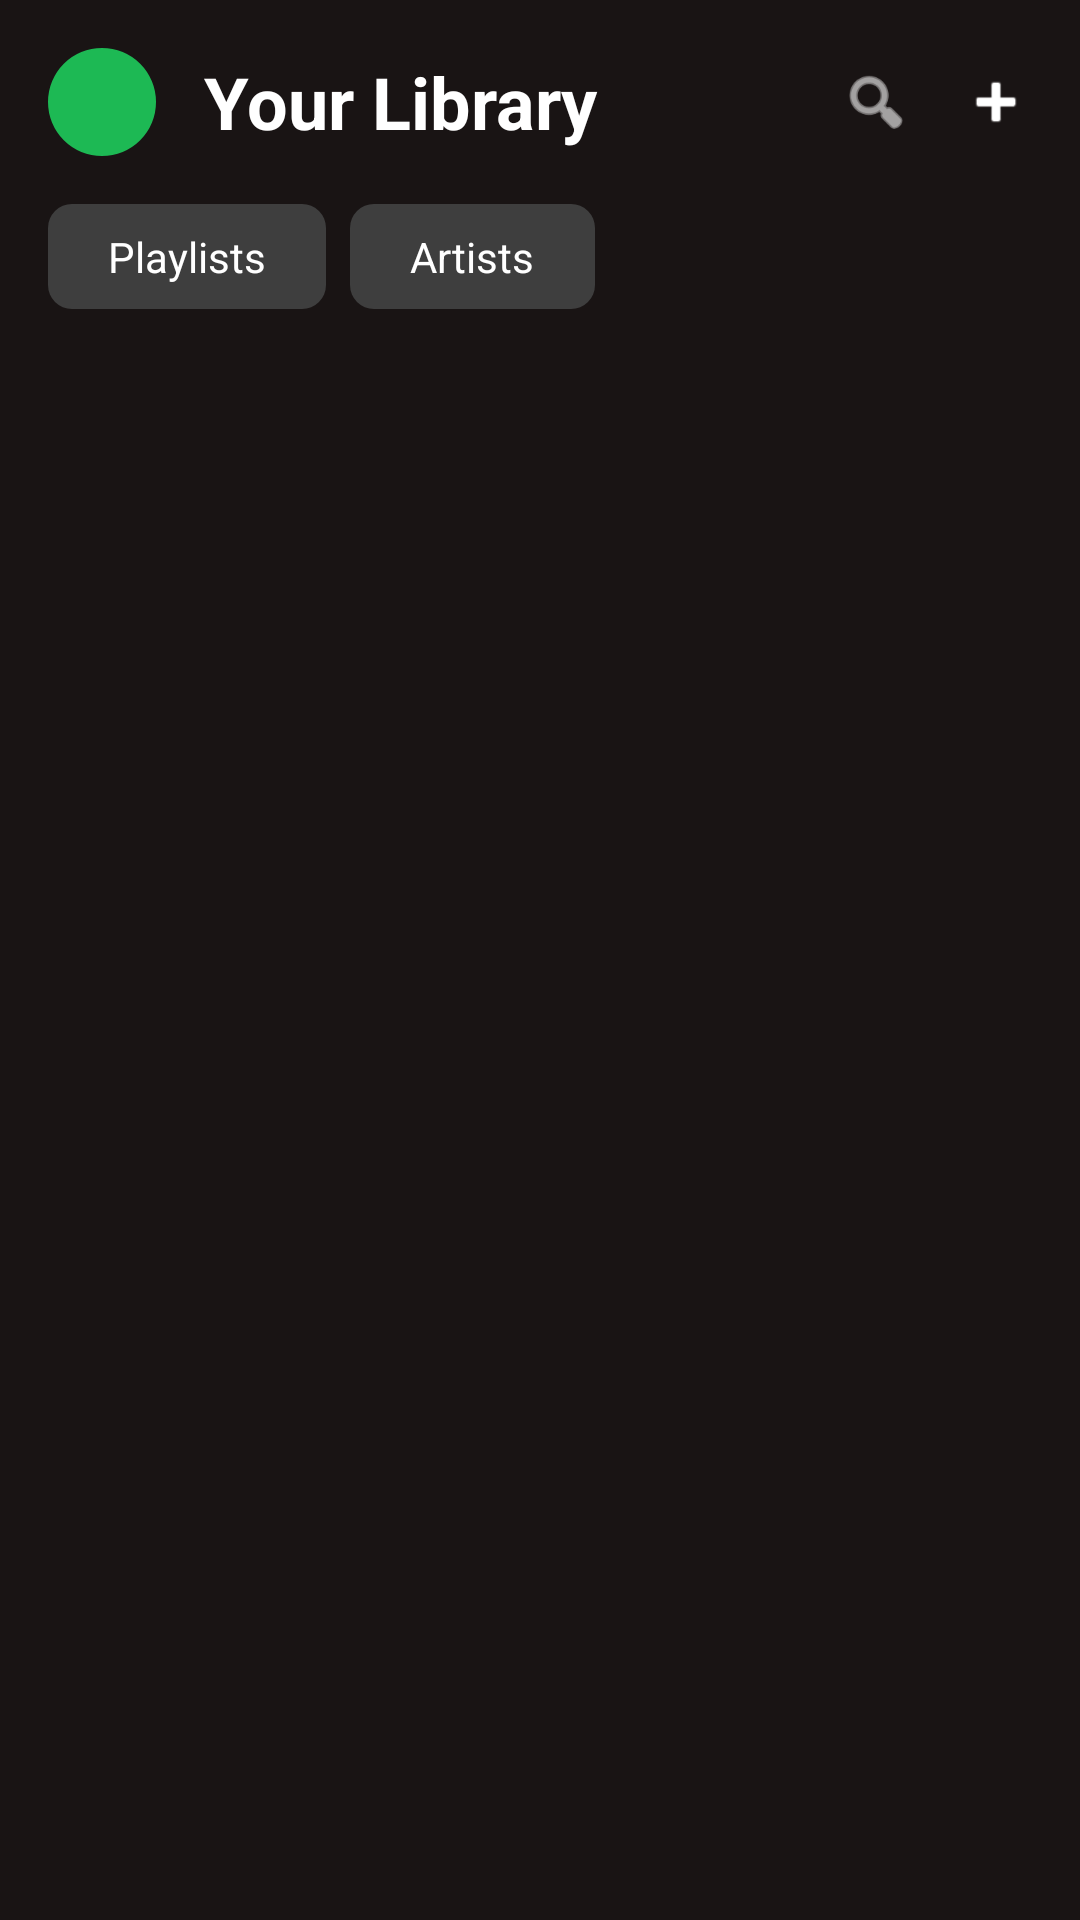

Screen size 1080px x 1920px. Icon name, then its box in pixels as (x1, y1, x2, y2):
add: (975, 82, 1017, 122)
search: (849, 76, 903, 129)
